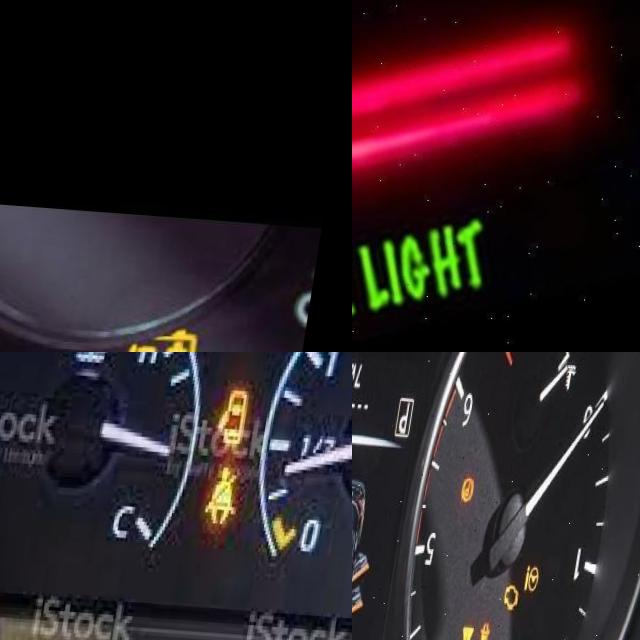Electronic Power Steering Warning: (536, 555, 561, 587)
Seat Belt: (211, 460, 256, 522), (489, 613, 509, 640)
